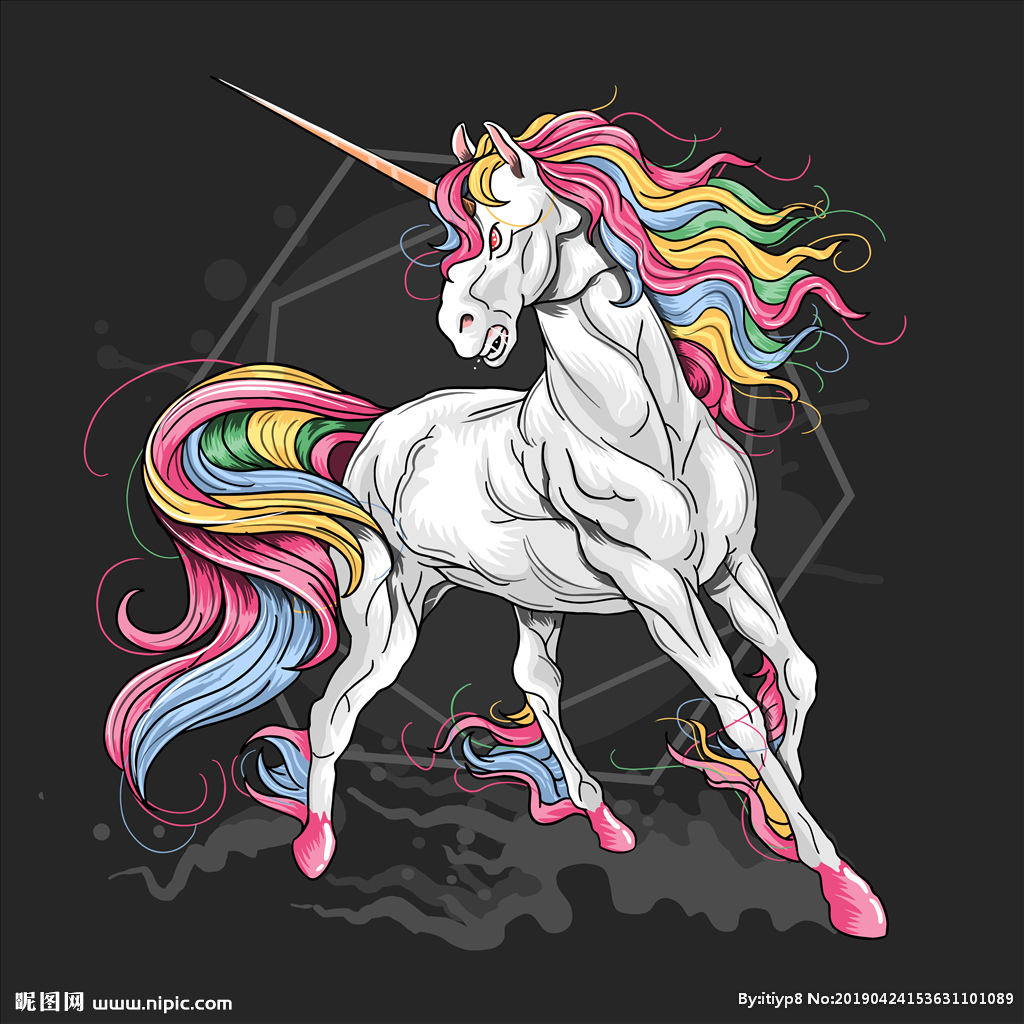background: (109, 91, 870, 961)
